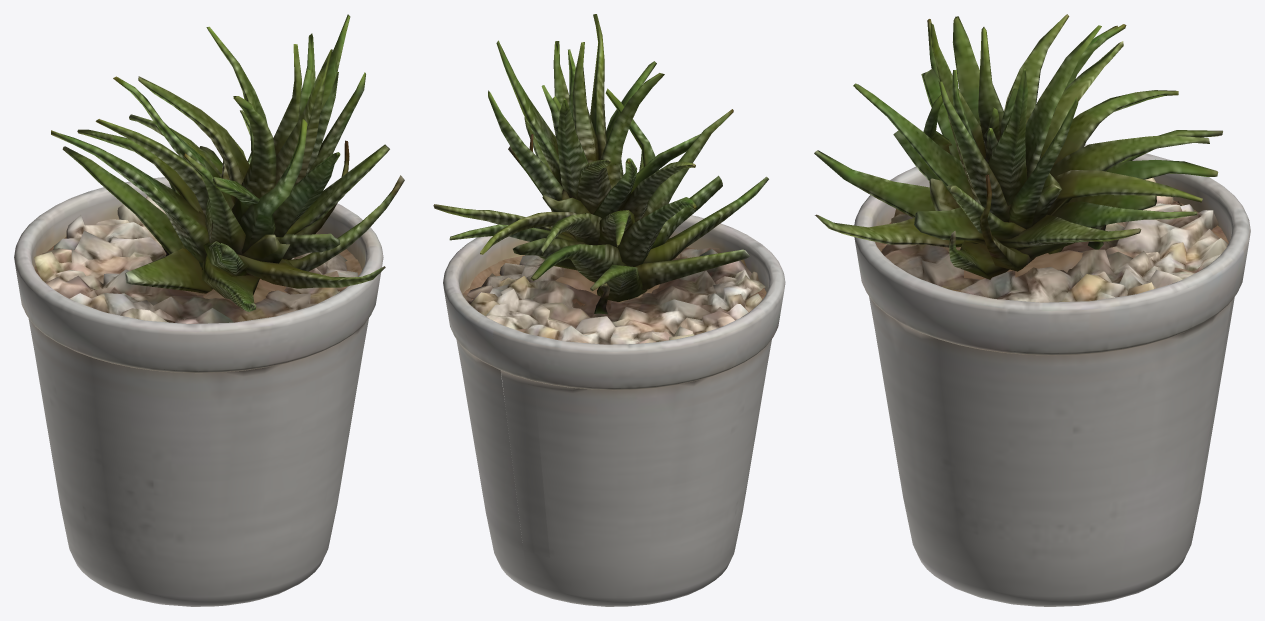
The model's file is potted_plant_04.glb.
The picture shows the model from 3 angles, left to right: view 1: azimuth 30°, elevation 25°; view 2: azimuth 150°, elevation 25°; view 3: azimuth 270°, elevation 25°; orthographic projection. The views are drawn at different scales.
Visible parts, largest first — view 1: potted_plant_04_pot, potted_plant_04_plant, potted_plant_04_ground, potted_plant_04_dirt; view 2: potted_plant_04_pot, potted_plant_04_plant, potted_plant_04_ground, potted_plant_04_dirt; view 3: potted_plant_04_pot, potted_plant_04_plant, potted_plant_04_ground, potted_plant_04_dirt.
Boxes of the visible parts, bbox=[...] form: potted_plant_04_pot: bbox=[14, 177, 383, 606]; potted_plant_04_plant: bbox=[51, 14, 404, 311]; potted_plant_04_ground: bbox=[34, 196, 358, 323]; potted_plant_04_dirt: bbox=[34, 236, 362, 305]; potted_plant_04_pot: bbox=[443, 215, 785, 606]; potted_plant_04_plant: bbox=[433, 14, 768, 314]; potted_plant_04_ground: bbox=[462, 247, 766, 344]; potted_plant_04_dirt: bbox=[463, 247, 766, 306]; potted_plant_04_pot: bbox=[854, 144, 1250, 606]; potted_plant_04_plant: bbox=[814, 14, 1222, 279]; potted_plant_04_ground: bbox=[881, 177, 1227, 302]; potted_plant_04_dirt: bbox=[875, 200, 1228, 279].
Size of the model in its own units: 0.168 by 0.2673 by 0.1846.
1 material, 1 textured.
